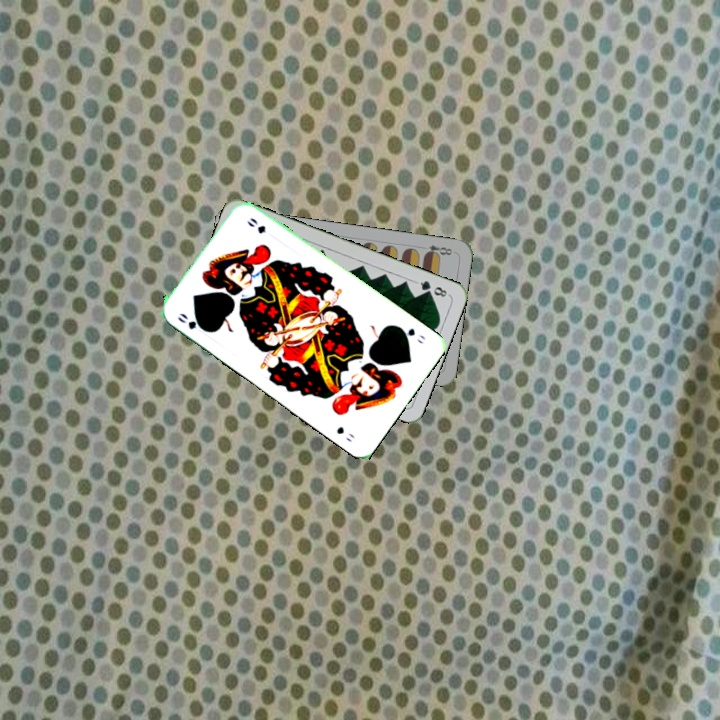E8: (421, 241, 455, 259)
G8: (412, 276, 451, 299)
GO: (393, 322, 427, 347), (174, 309, 208, 334)
